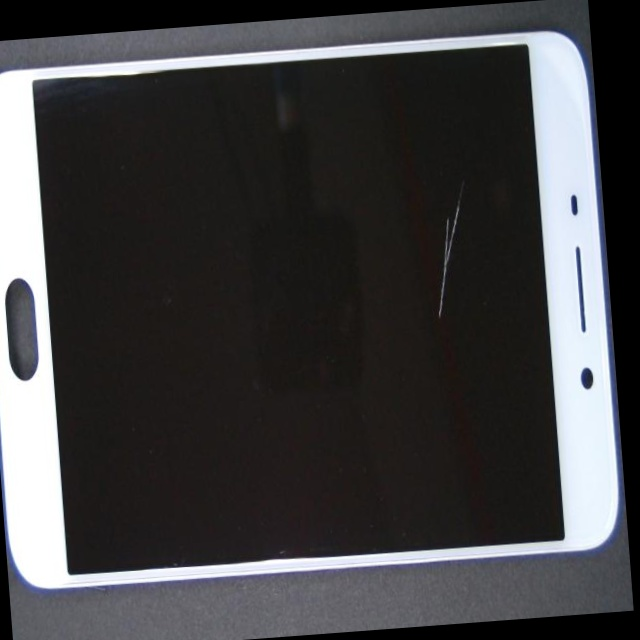scratch: (216, 6, 613, 360)
